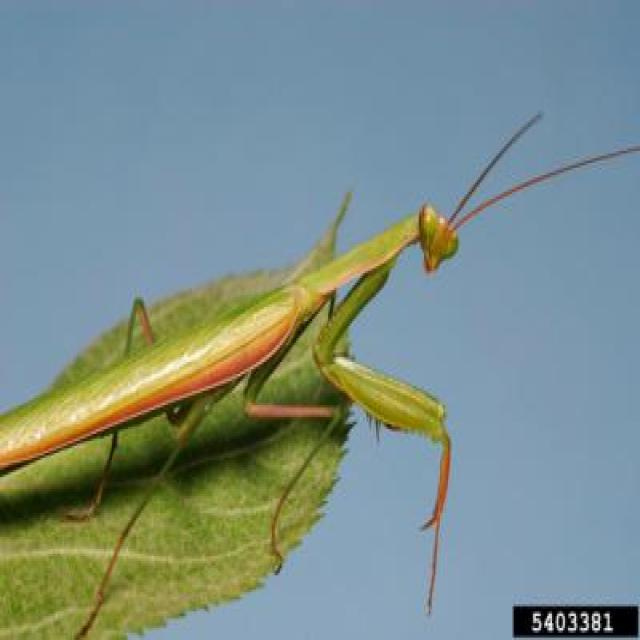antennae: (456, 146, 640, 226), (446, 114, 542, 223)
body: (0, 204, 459, 474)
insect: (0, 111, 638, 626)
legs: (311, 256, 452, 623), (80, 381, 234, 636), (63, 290, 172, 520), (259, 298, 338, 574)
mouthpart: (420, 250, 439, 273)
wings: (0, 285, 305, 463)
